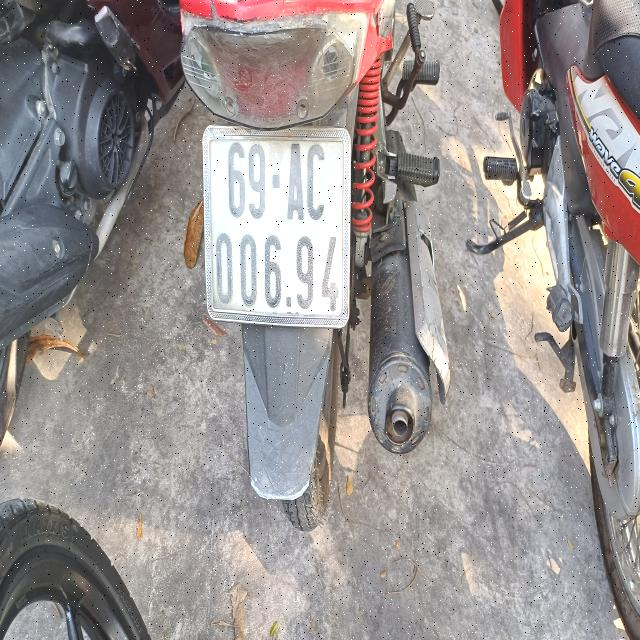0: (214, 230, 235, 309), (240, 233, 260, 309)
4: (320, 233, 340, 313)
6: (226, 142, 248, 220), (264, 229, 283, 308)
9: (247, 142, 268, 223), (296, 235, 314, 311)
A: (286, 141, 305, 224)
C: (306, 142, 326, 226)
